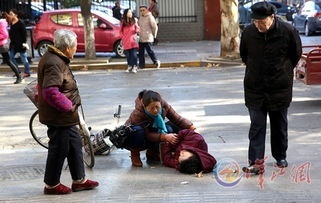falling: (153, 116, 221, 176)
